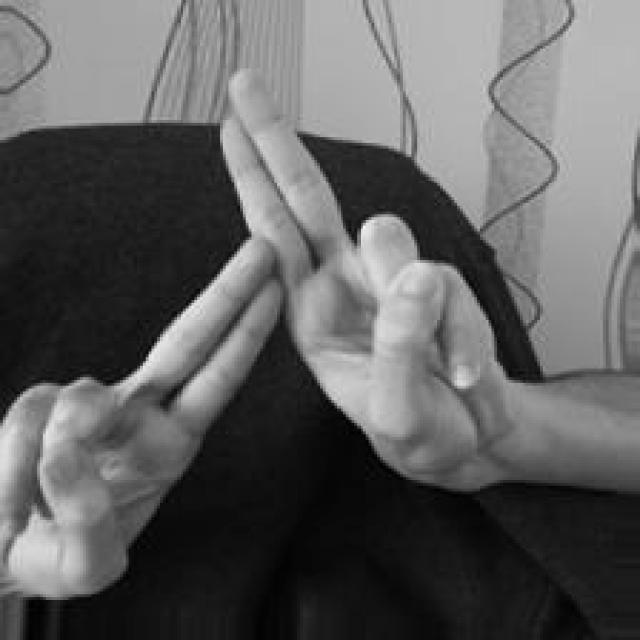K: (0, 62, 515, 597)
